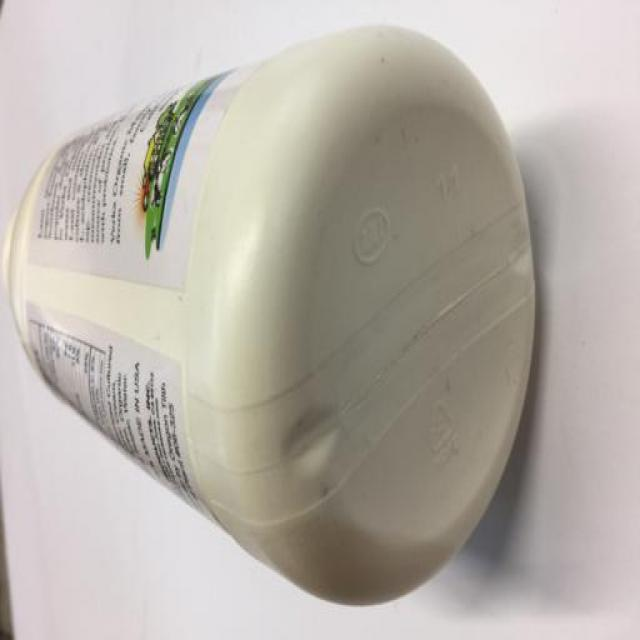plastic_bottle: (7, 15, 548, 609)
